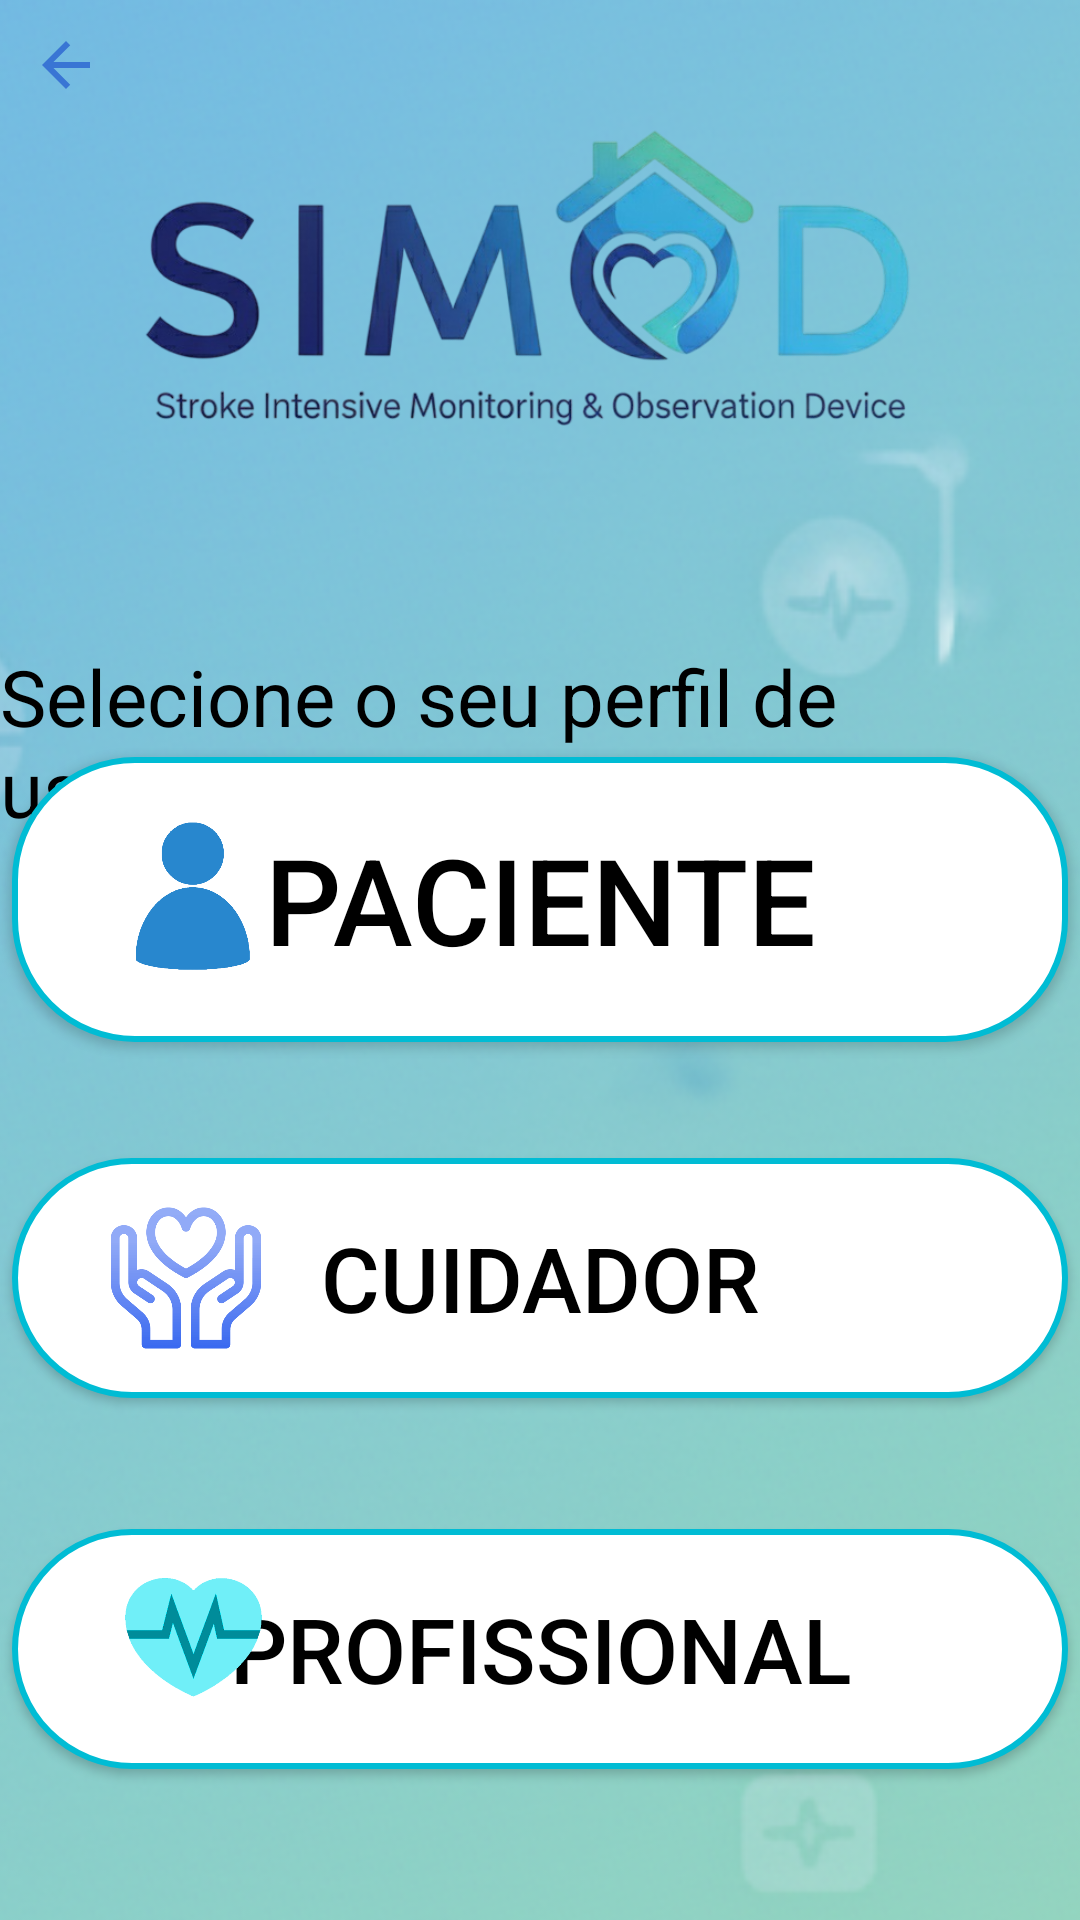

Locate icon controls on the screen. Image size 1080px×1920px, boxes as (x1, y1, x2, y2).
usericone: (136, 822, 250, 970)
Voltar: (42, 41, 90, 89)
